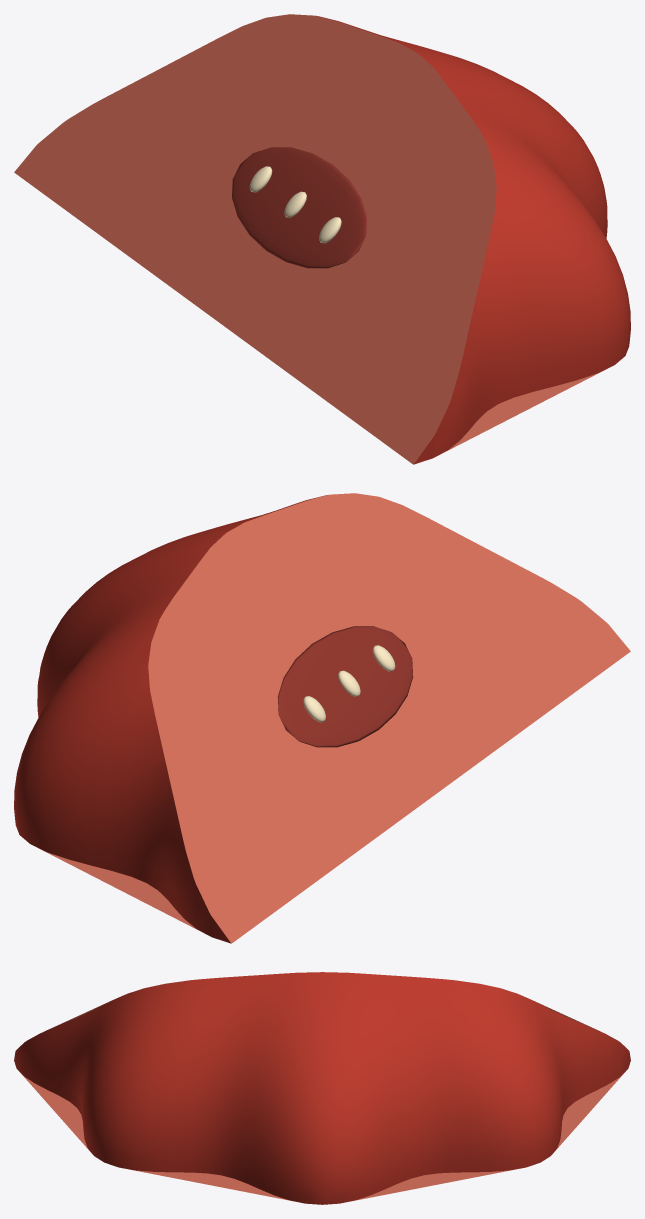
Rendered from beefsteak_chunk.glb.
3 views of the same model, one above another, from view 1: azimuth 30°, elevation 25°; view 2: azimuth 150°, elevation 25°; view 3: azimuth 270°, elevation 25° (orthographic). The views are drawn at different scales.
Parts seen in each view (by area): view 1: Prepared Beefsteak half, Fresh Beefsteak diagonal gel, Fresh Beefsteak diagonal seed; view 2: Prepared Beefsteak half, Fresh Beefsteak diagonal gel, Fresh Beefsteak diagonal seed; view 3: Prepared Beefsteak half.
Part boxes in pixels (x1,y1,x2,y2): Prepared Beefsteak half: (14,14,630,464); Fresh Beefsteak diagonal gel: (231,147,367,268); Fresh Beefsteak diagonal seed: (249,166,341,243); Prepared Beefsteak half: (14,493,630,943); Fresh Beefsteak diagonal gel: (277,626,413,747); Fresh Beefsteak diagonal seed: (303,645,395,722); Prepared Beefsteak half: (14,972,630,1204).
Size of the model in its own units: 0.8958 by 0.4781 by 1.61.
